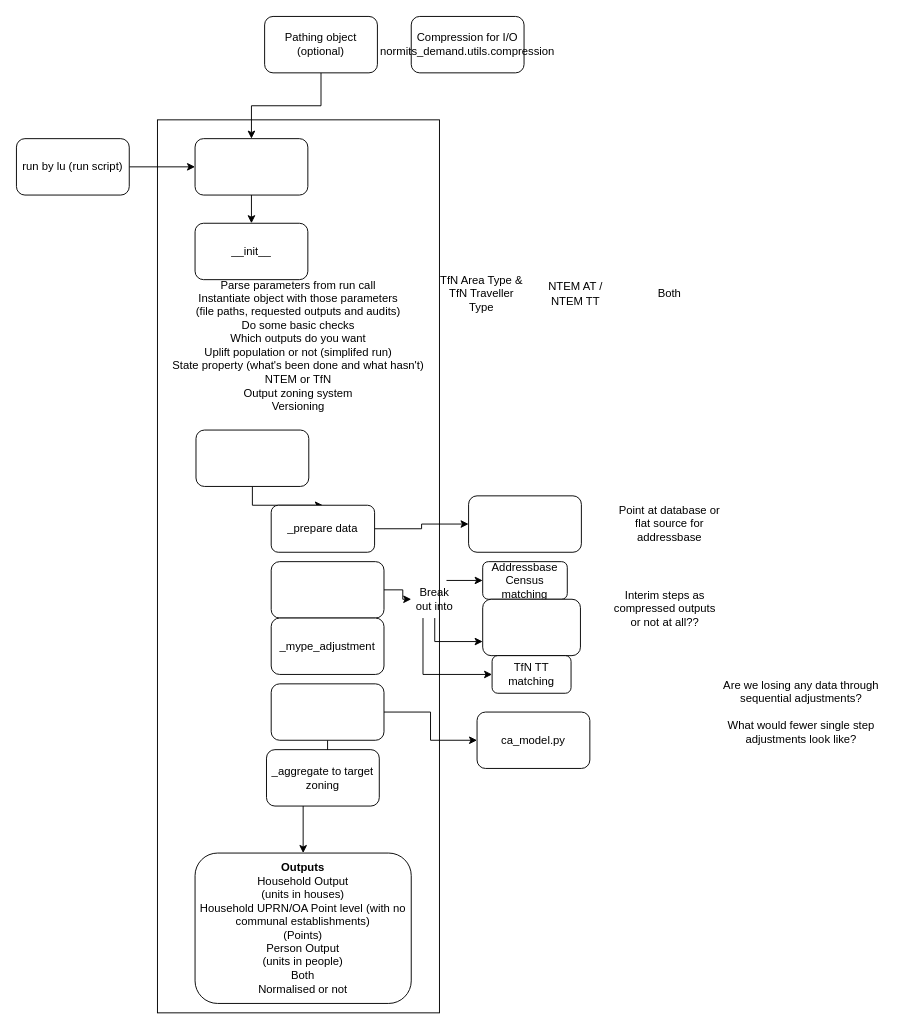
Some shapes in this 898 by 1029 pixel diagram are drawn without their labels. The shapes that lost their labels are listed below. From the top down, each one's centre as x and y in pixels, then its label:
(x=251, y=166): base year land use class
(x=252, y=457): build by lu (align to future year naming)
(x=524, y=523): lu_data_prep.py addressbase_processing.py
(x=327, y=589): _main build
(x=531, y=627): Census data integration - NTEM traveller type matching
(x=327, y=711): _apply car availability model
